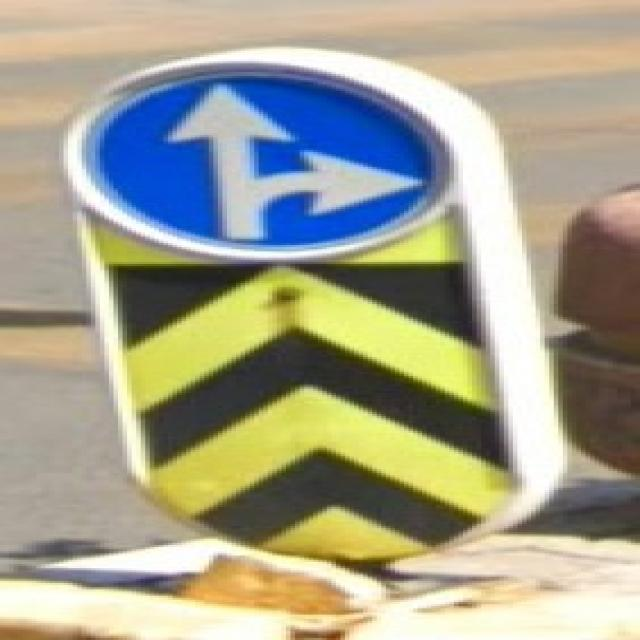Straight or Right: (81, 65, 444, 251)
